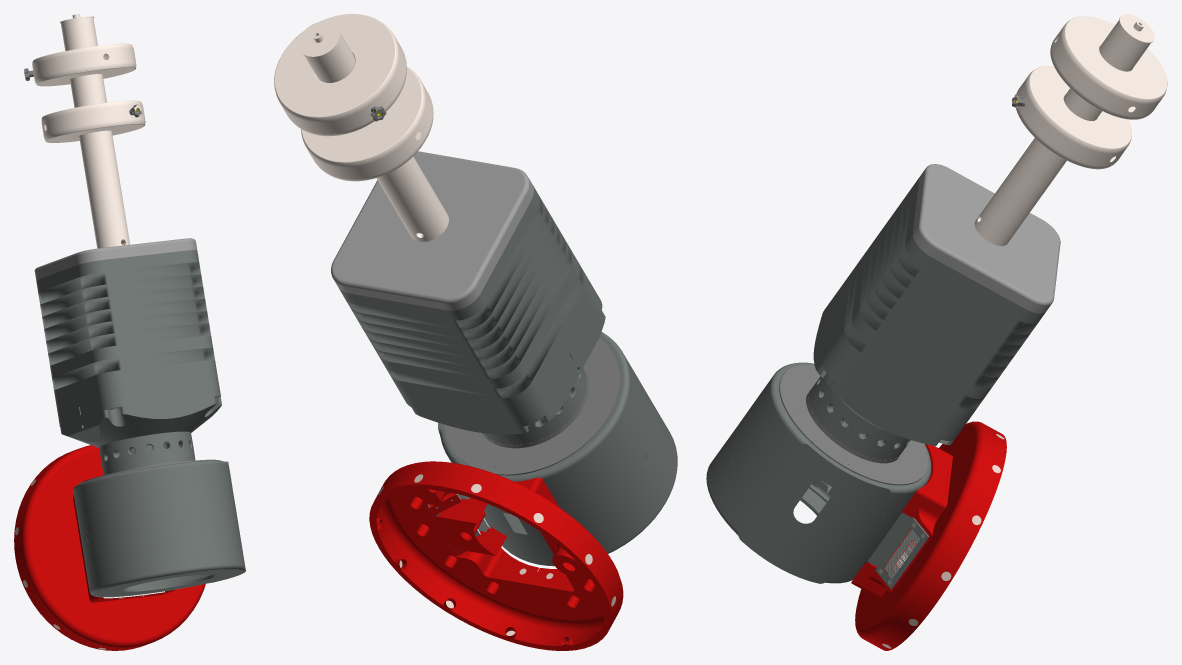
The model's file is seperate-3-simplified v12.fbx.
3 renders of one model, left to right at view 1: azimuth 30°, elevation 25°; view 2: azimuth 150°, elevation 25°; view 3: azimuth 270°, elevation 25°, orthographic. The views are drawn at different scales.
Visible parts, largest first — view 1: Body1 (×17), Body12, Body3, Body2, Body8; view 2: Body1 (×20), Body3, Body12; view 3: Body1 (×21), Body12, Body3.
Boxes of the visible parts, box(x1,y1,x2,y2) form: Body1 (×17): box(14, 17, 232, 650); Body12: box(77, 486, 245, 597); Body3: box(34, 238, 197, 279); Body2: box(96, 569, 241, 596); Body8: box(43, 532, 76, 569); Body1 (×20): box(274, 14, 640, 650); Body3: box(331, 151, 533, 310); Body12: box(484, 372, 677, 566); Body1 (×21): box(756, 16, 1167, 650); Body12: box(706, 395, 901, 583); Body3: box(913, 164, 1060, 313).
Size of the model in its own units: 0.5039 by 1.45 by 0.9338.
